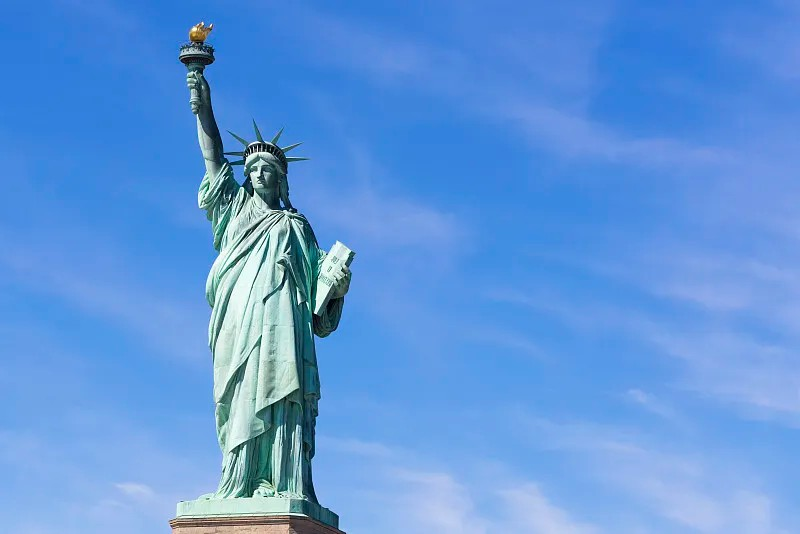SL: (167, 20, 356, 534)
